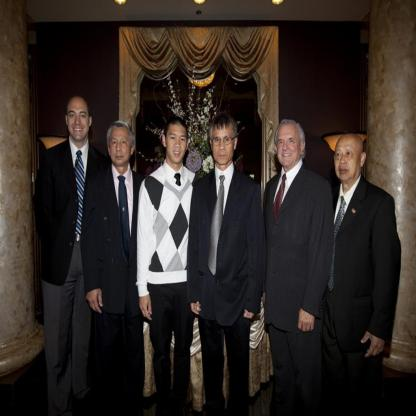face: (336, 134, 361, 181), (278, 125, 301, 167), (68, 99, 90, 141), (214, 125, 235, 166), (167, 124, 187, 163), (111, 128, 132, 164)
